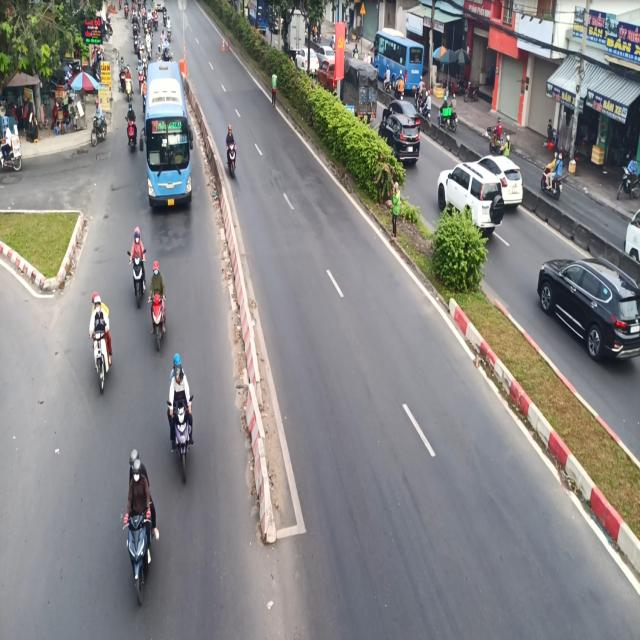bus: (142, 60, 195, 205)
motor: (120, 443, 160, 613), (163, 349, 196, 488), (86, 294, 112, 394), (149, 250, 171, 365), (125, 224, 148, 310), (225, 127, 239, 181), (124, 103, 138, 153)
